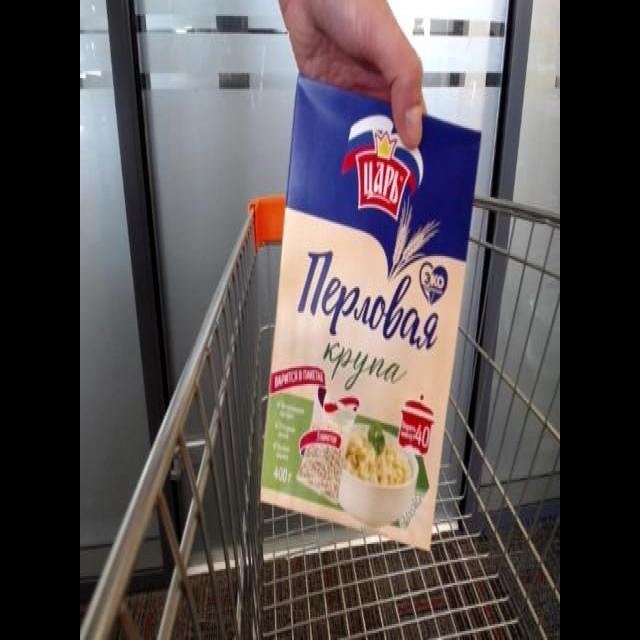Groats: (255, 59, 485, 562)
